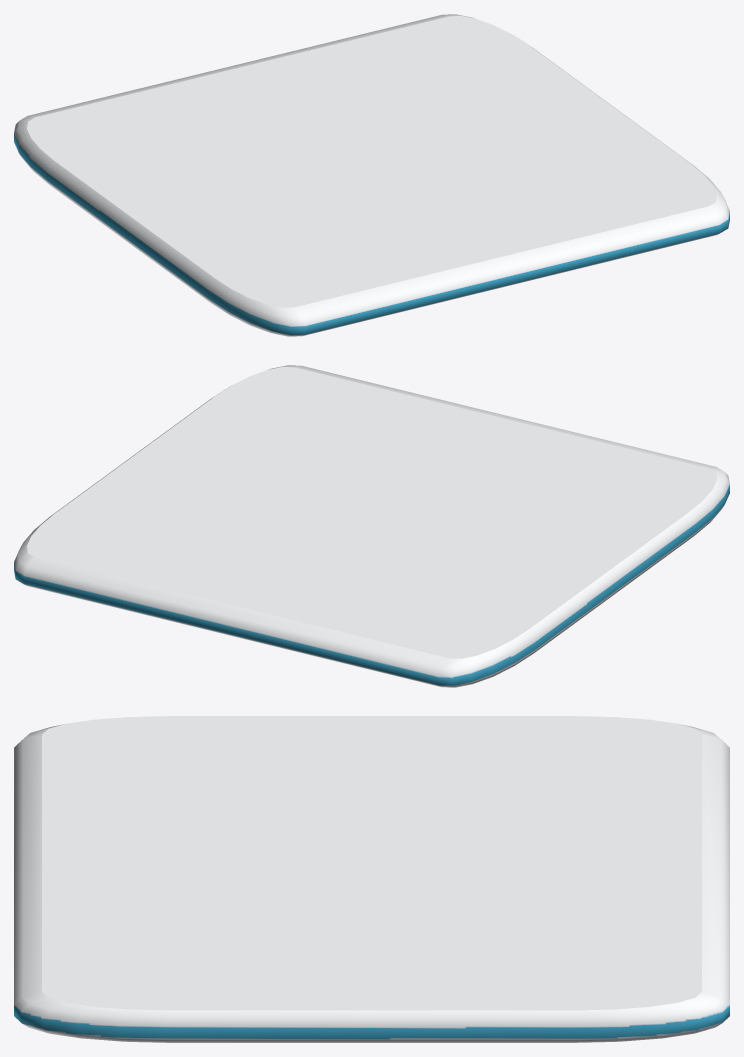
The model's file is Step_Tile.fbx.
3 renders of one model, top to bottom at view 1: azimuth 30°, elevation 25°; view 2: azimuth 150°, elevation 25°; view 3: azimuth 270°, elevation 25°, orthographic. The views are drawn at different scales.
Parts seen in each view (by area): view 1: Step_Tile; view 2: Step_Tile; view 3: Step_Tile.
Part boxes in pixels (x1,y1,x2,y2): Step_Tile: (14, 14, 729, 336); Step_Tile: (14, 365, 729, 687); Step_Tile: (14, 716, 729, 1042).
Bounding box in the file's own units: 4 × 0.2 × 4.
